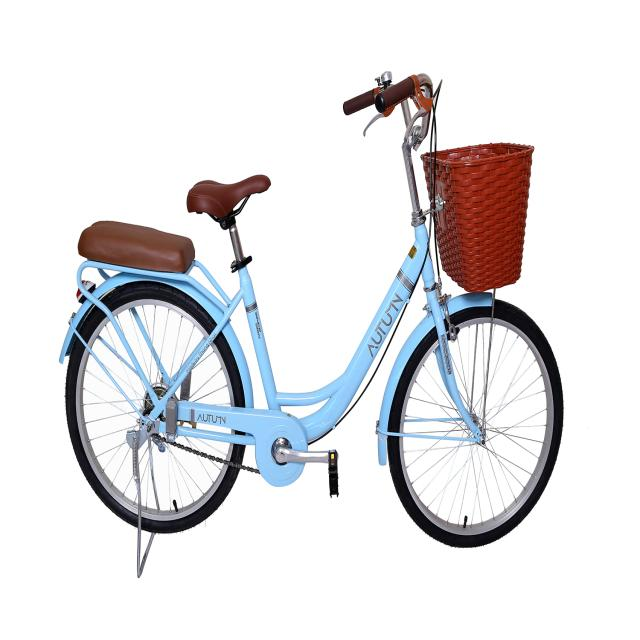bicycle: (59, 70, 564, 577)
